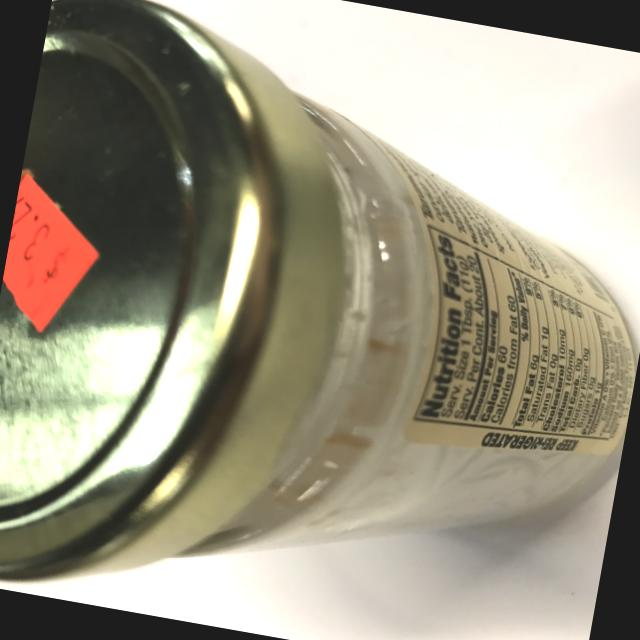Glass: (208, 85, 640, 634)
Metal: (0, 0, 379, 632)
